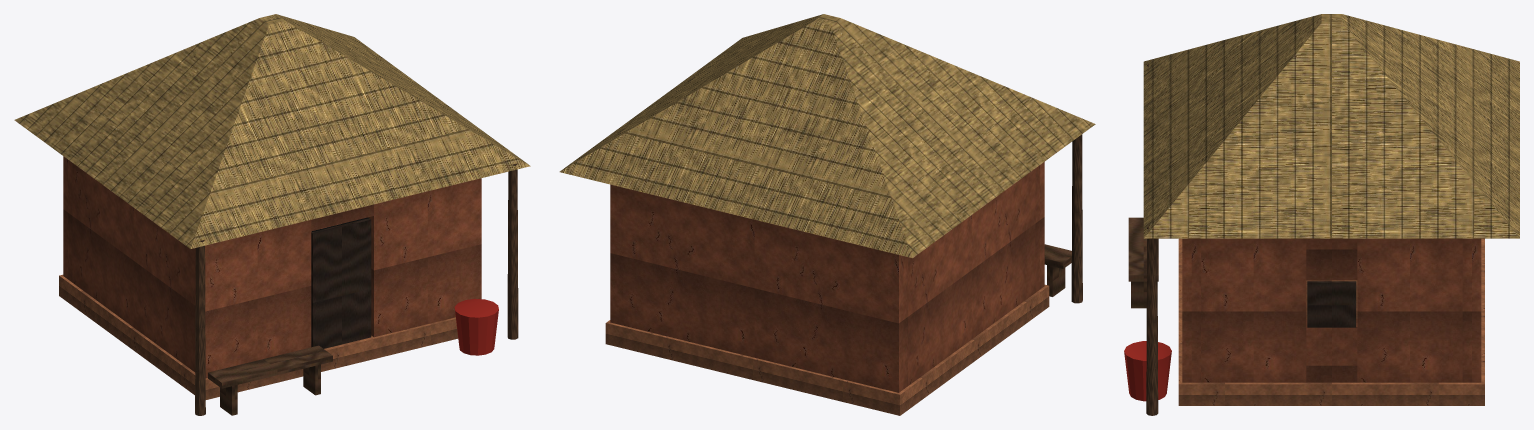
The model's file is az-hut-thatch.glb.
3 renders of one model, left to right at view 1: azimuth 30°, elevation 25°; view 2: azimuth 150°, elevation 25°; view 3: azimuth 270°, elevation 25°, orthographic. The views are drawn at different scales.
Parts seen in each view (by area): view 1: az-hut-thatch_az_thatch, az-hut-thatch_az_banco, az-hut-thatch_az_wood_dark, az-hut-thatch_az_banco2, az-hut-thatch_az_wood, az-hut-thatch_az_enamel_red; view 2: az-hut-thatch_az_thatch, az-hut-thatch_az_banco, az-hut-thatch_az_banco2, az-hut-thatch_az_wood; view 3: az-hut-thatch_az_thatch, az-hut-thatch_az_banco, az-hut-thatch_az_banco2, az-hut-thatch_az_wood, az-hut-thatch_az_wood_dark, az-hut-thatch_az_enamel_red.
Part boxes in pixels (x1,y1,x2,y2): az-hut-thatch_az_thatch: (14, 14, 530, 248); az-hut-thatch_az_banco: (63, 156, 481, 378); az-hut-thatch_az_wood_dark: (311, 218, 371, 348); az-hut-thatch_az_banco2: (59, 224, 458, 399); az-hut-thatch_az_wood: (195, 163, 518, 415); az-hut-thatch_az_enamel_red: (454, 298, 498, 355); az-hut-thatch_az_thatch: (559, 14, 1095, 258); az-hut-thatch_az_banco: (610, 162, 1044, 392); az-hut-thatch_az_banco2: (605, 284, 1049, 415); az-hut-thatch_az_wood: (1044, 134, 1082, 303); az-hut-thatch_az_thatch: (1143, 14, 1519, 238); az-hut-thatch_az_banco: (1182, 238, 1481, 382); az-hut-thatch_az_banco2: (1178, 238, 1484, 405); az-hut-thatch_az_wood: (1128, 63, 1158, 415); az-hut-thatch_az_wood_dark: (1307, 281, 1356, 327); az-hut-thatch_az_enamel_red: (1124, 341, 1171, 401).
Size of the model in its own units: 4.9 by 4.05 by 4.63.
Materials: 7 (5 with a texture image).
